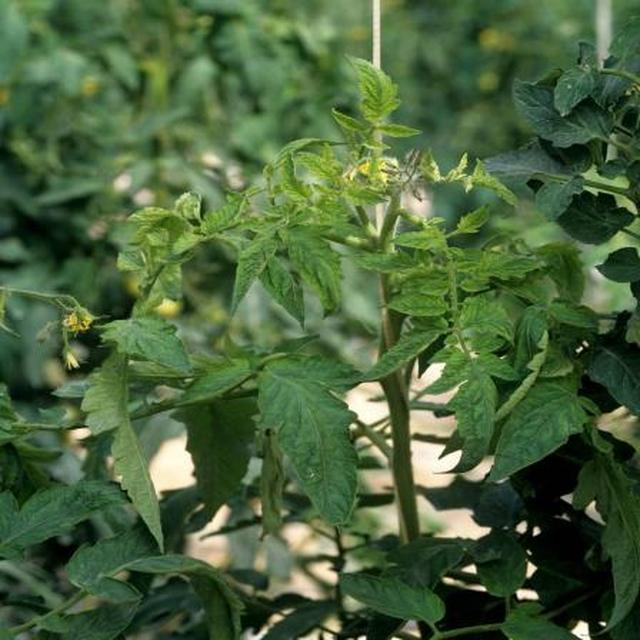Yellow Leaf Curl Virus: (44, 21, 640, 612)
